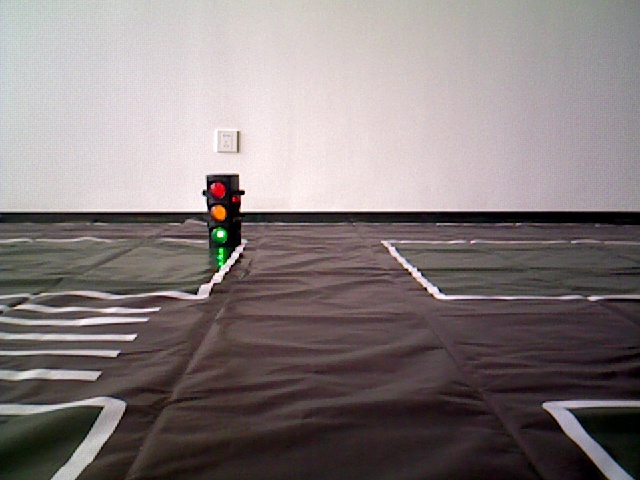green: (206, 178, 238, 244)
